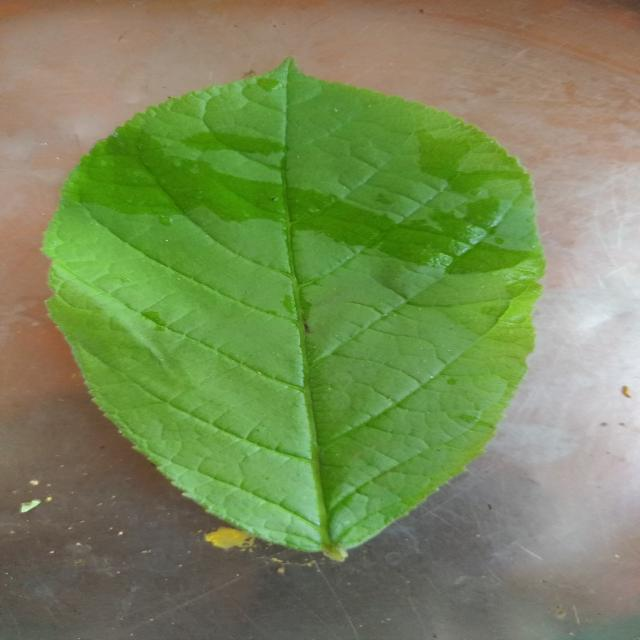padri: (44, 60, 544, 560)
